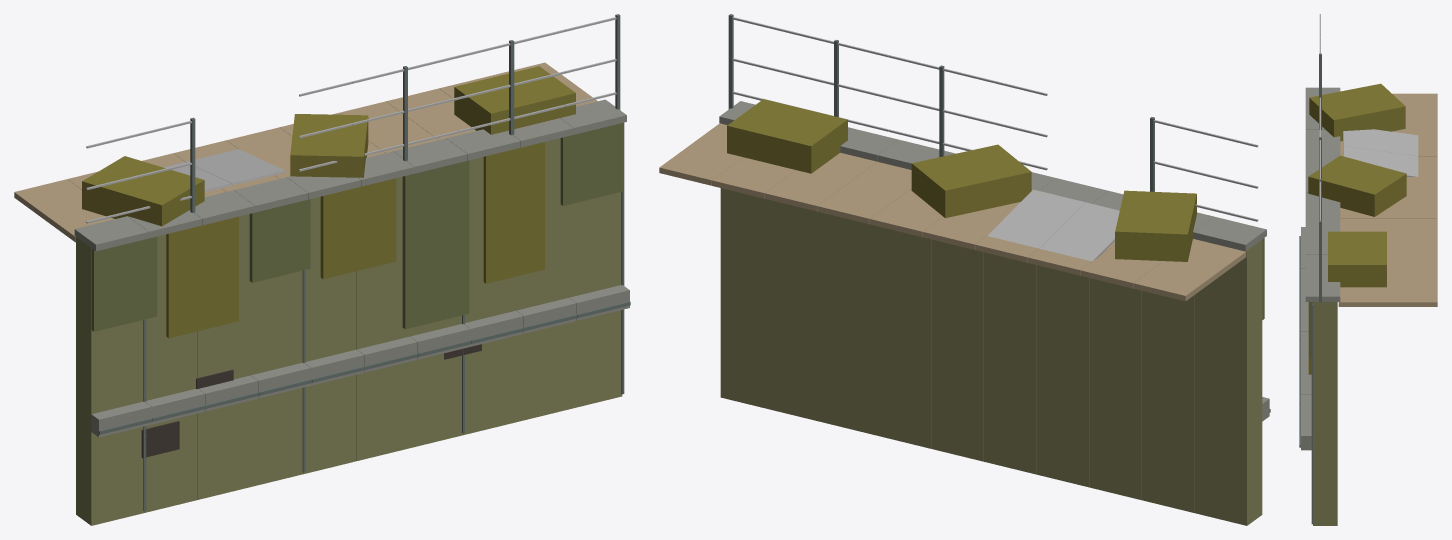
The model's file is SM_MuroRampa_v2_Hiedra_e1_Danado_LOD0.fbx.
3 views of the same model, side by side, from view 1: azimuth 30°, elevation 25°; view 2: azimuth 150°, elevation 25°; view 3: azimuth 270°, elevation 25° (orthographic). The views are drawn at different scales.
Visible parts, largest first — view 1: SM_muro_rampa_v9_LOD0; view 2: SM_muro_rampa_v9_LOD0; view 3: SM_muro_rampa_v9_LOD0.
Part boxes in pixels (bbox=[...]): SM_muro_rampa_v9_LOD0: bbox=[14, 14, 630, 525]; SM_muro_rampa_v9_LOD0: bbox=[659, 14, 1270, 525]; SM_muro_rampa_v9_LOD0: bbox=[1299, 14, 1437, 525].
Bounding box in the file's own units: 10.03 × 6.8 × 2.8.
